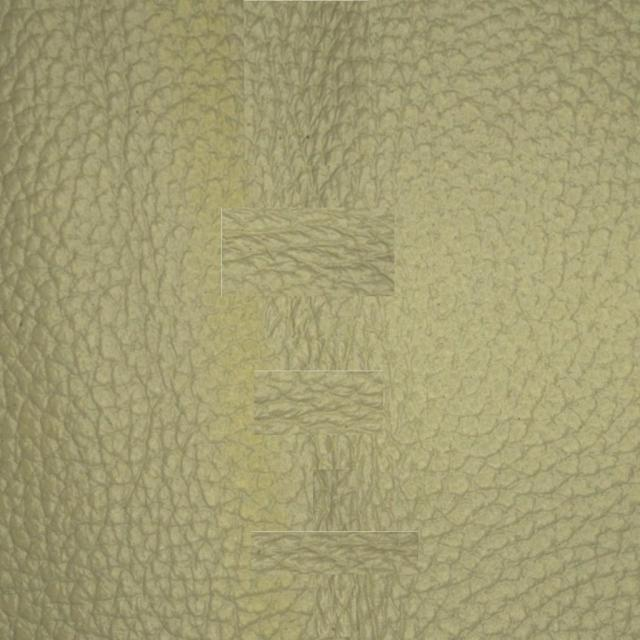Healed Injury: (193, 194, 462, 454), (240, 494, 450, 606)
